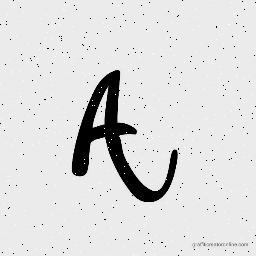a: (68, 66, 148, 178)
